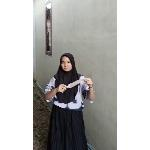Pisau: (56, 77, 88, 93)
